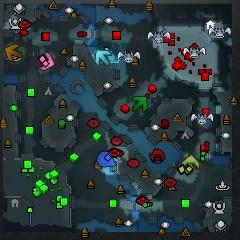p1: (97, 152, 116, 167)
x1: (37, 52, 54, 70)
x2: (183, 155, 199, 172)
x3: (96, 49, 111, 65)
x4: (132, 96, 147, 112)
x5: (4, 44, 22, 62)
